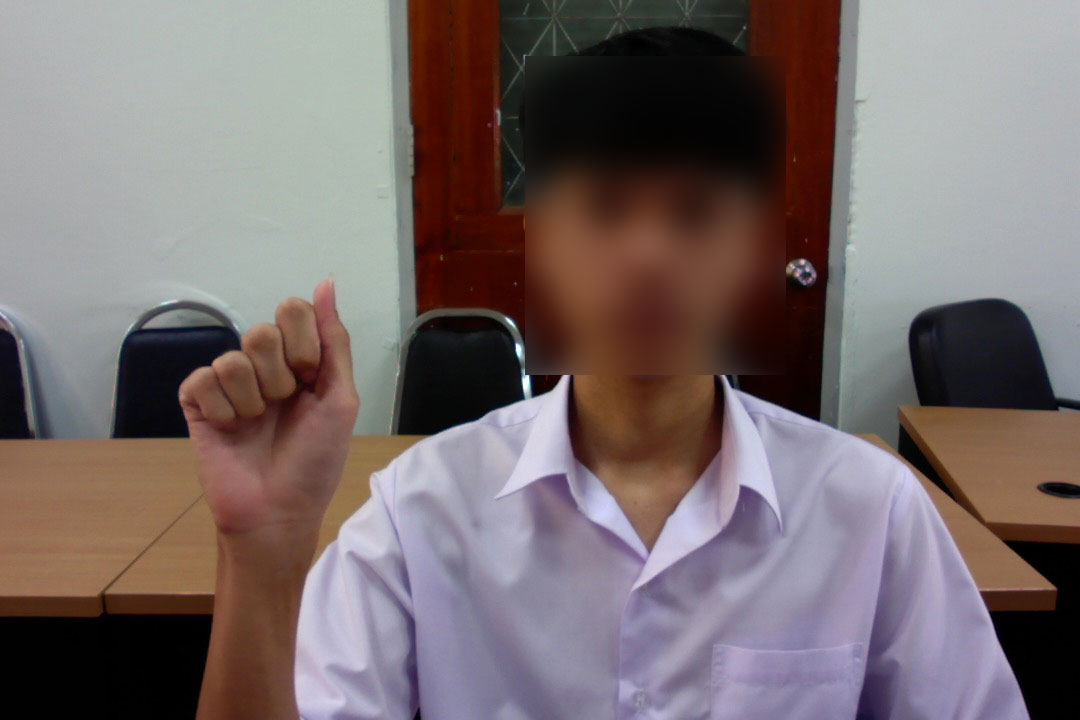or: (167, 268, 375, 560)
